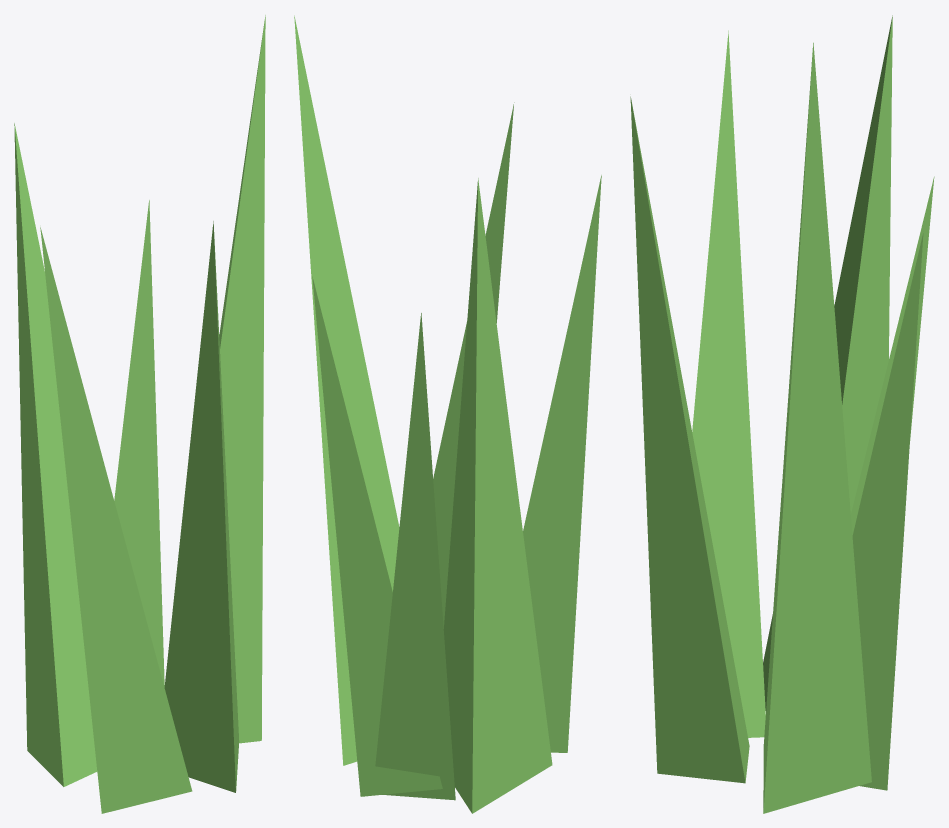
The model's file is aloe.fbx.
The picture shows the model from 3 angles, left to right: view 1: azimuth 30°, elevation 25°; view 2: azimuth 150°, elevation 25°; view 3: azimuth 270°, elevation 25°; orthographic projection. The views are drawn at different scales.
Parts seen in each view (by area): view 1: Cone.003, Cone, Cone.002, Cone.001, Cone.004; view 2: Cone, Cone.005, Cone.003, Cone.001, Cone.004, Cone.002; view 3: Cone.001, Cone.002, Cone.003, Cone.004, Cone, Cone.005.
Boxes of the visible parts, x1,y1,x2,y2 form: Cone.003: (40, 227, 192, 813); Cone: (14, 123, 97, 786); Cone.002: (164, 221, 239, 792); Cone.001: (219, 15, 265, 743); Cone.004: (114, 200, 164, 687); Cone: (443, 178, 552, 813); Cone.005: (375, 313, 455, 800); Cone.003: (523, 175, 601, 752); Cone.001: (294, 15, 399, 765); Cone.004: (312, 276, 442, 796); Cone.002: (433, 102, 514, 628); Cone.001: (763, 42, 871, 813); Cone.002: (630, 96, 749, 783); Cone.003: (692, 30, 765, 737); Cone.004: (852, 233, 923, 790); Cone: (763, 15, 892, 710); Cone.005: (851, 176, 934, 535).
Bounding box in the file's own units: 191 × 497 × 170.
